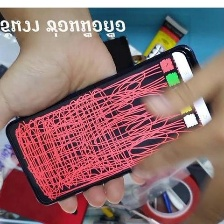phone: (3, 40, 224, 211), (0, 160, 96, 223)
